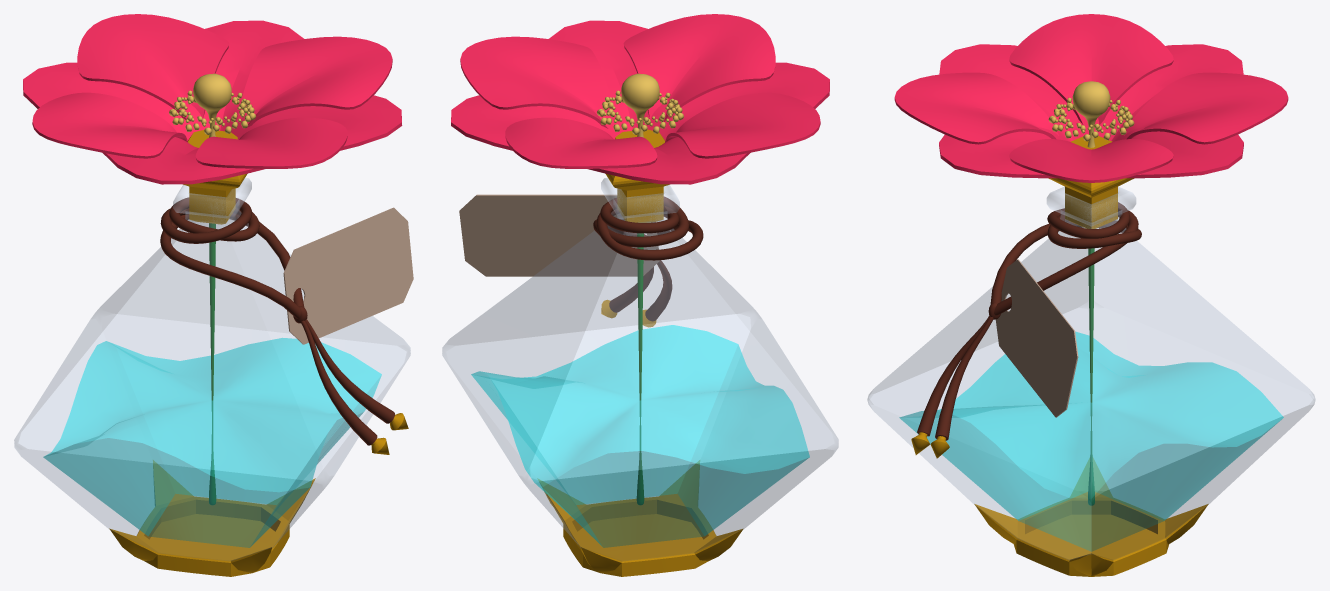
The model's file is (Item)Bottle_01.fbx.
The picture shows the model from 3 angles, left to right: view 1: azimuth 30°, elevation 25°; view 2: azimuth 150°, elevation 25°; view 3: azimuth 270°, elevation 25°; orthographic projection.
Parts seen in each view (by area): view 1: Bottle, Peonia, Bottle Liquid, Label, Bottle Cap; view 2: Bottle, Peonia, Bottle Liquid, Label, Bottle Cap; view 3: Bottle, Peonia, Bottle Liquid, Label, Bottle Cap.
Boxes of the visible parts, x1,y1,x2,y2 form: Bottle: (14,178,410,576); Peonia: (23,14,402,504); Bottle Liquid: (43,338,381,547); Label: (160,197,413,454); Bottle Cap: (183,129,247,224); Bottle: (442,178,838,576); Peonia: (451,14,829,504); Bottle Liquid: (471,325,809,547); Label: (459,194,703,327); Bottle Cap: (605,129,669,222); Bottle: (867,186,1315,576); Peonia: (894,14,1288,505); Bottle Liquid: (899,332,1283,551); Label: (911,202,1141,458); Bottle Cap: (1048,136,1134,228).
Size of the model in its own units: 34.25 by 38.81 by 34.25.
